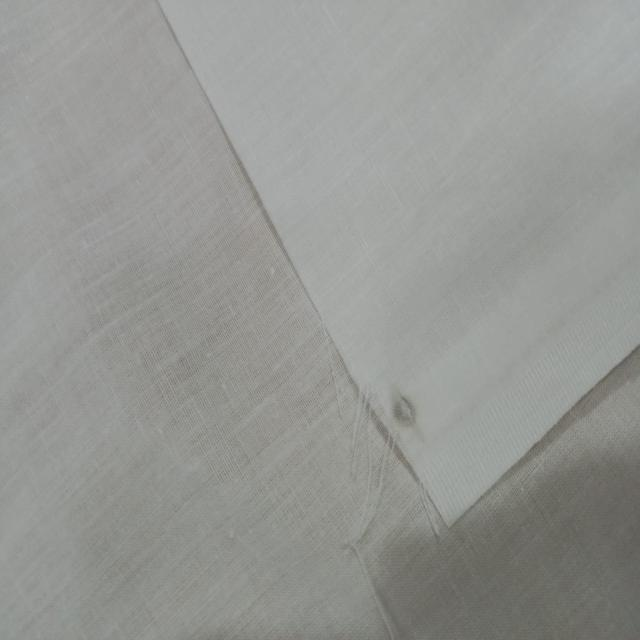stain: (381, 379, 432, 447)
